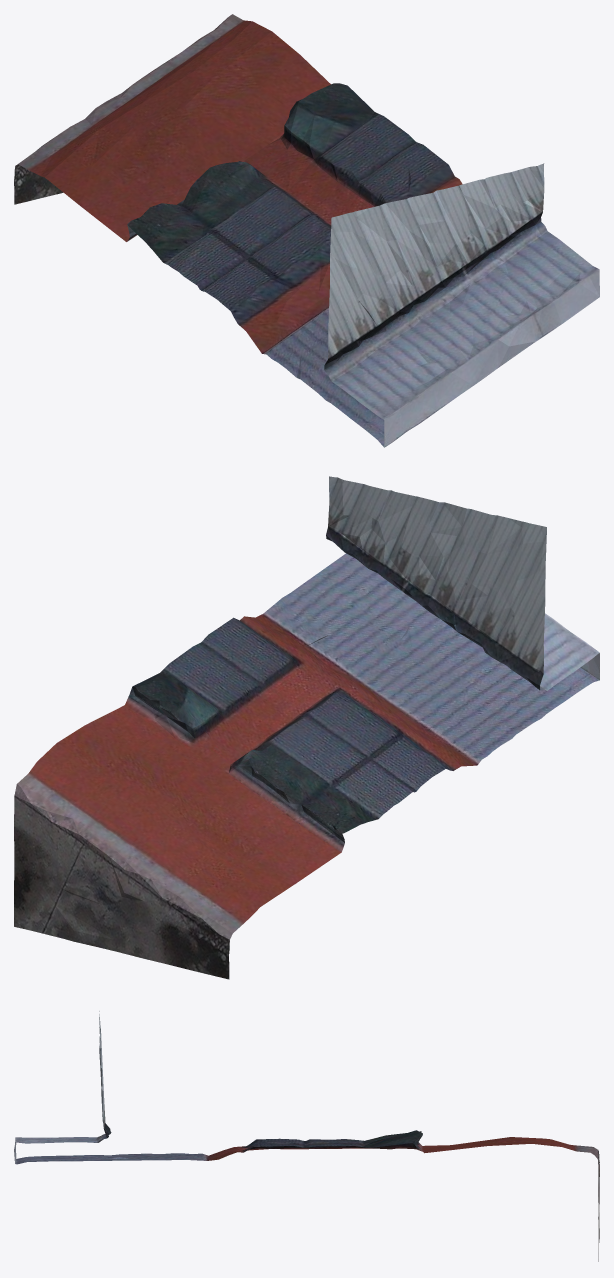
Rendered from Tile_+001_+007_L22_00131.obj.
3 views of the same model, one above another, from view 1: azimuth 30°, elevation 25°; view 2: azimuth 150°, elevation 25°; view 3: azimuth 270°, elevation 25° (orthographic). The views are drawn at different scales.
Bounding box in the file's own units: 3.91 × 3.81 × 11.7.
Materials: 1 (1 with a texture image).
